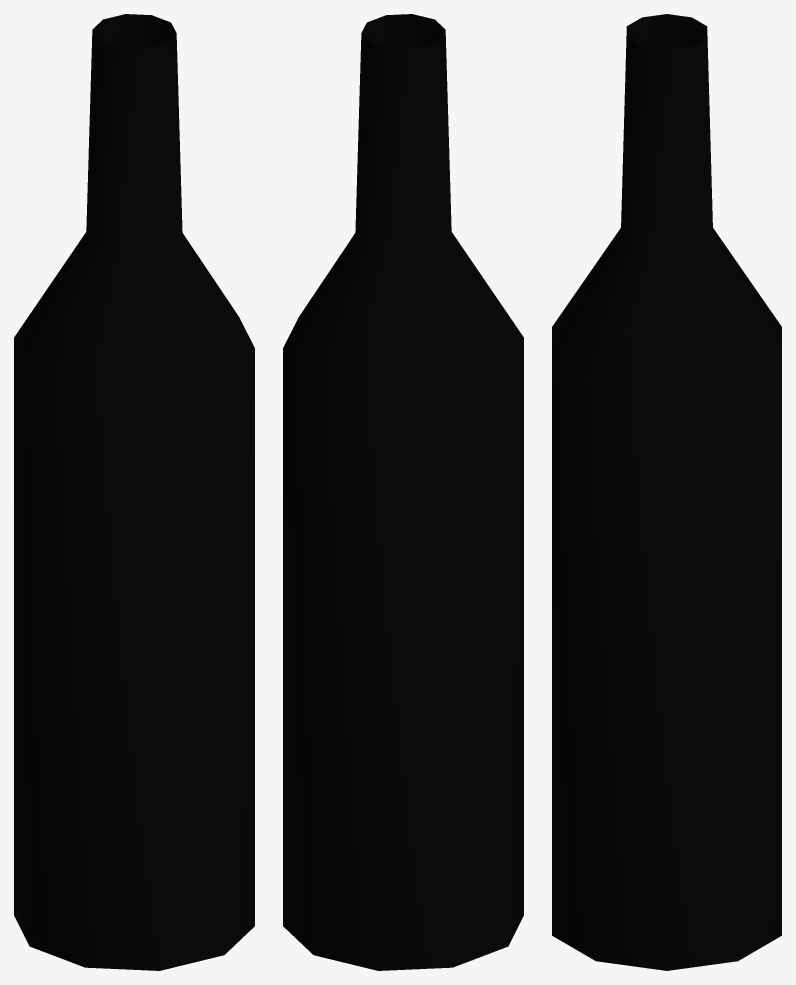
File: SM_wine_empty.fbx
The picture shows the model from 3 angles, left to right: view 1: azimuth 30°, elevation 25°; view 2: azimuth 150°, elevation 25°; view 3: azimuth 270°, elevation 25°; orthographic projection.
Parts seen in each view (by area): view 1: wine_empty; view 2: wine_empty; view 3: wine_empty.
Boxes of the visible parts, x1,y1,x2,y2 form: wine_empty: [14, 14, 254, 970]; wine_empty: [283, 14, 523, 970]; wine_empty: [552, 14, 781, 970].
Bounding box in the file's own units: 0.074 × 0.3 × 0.0704.
